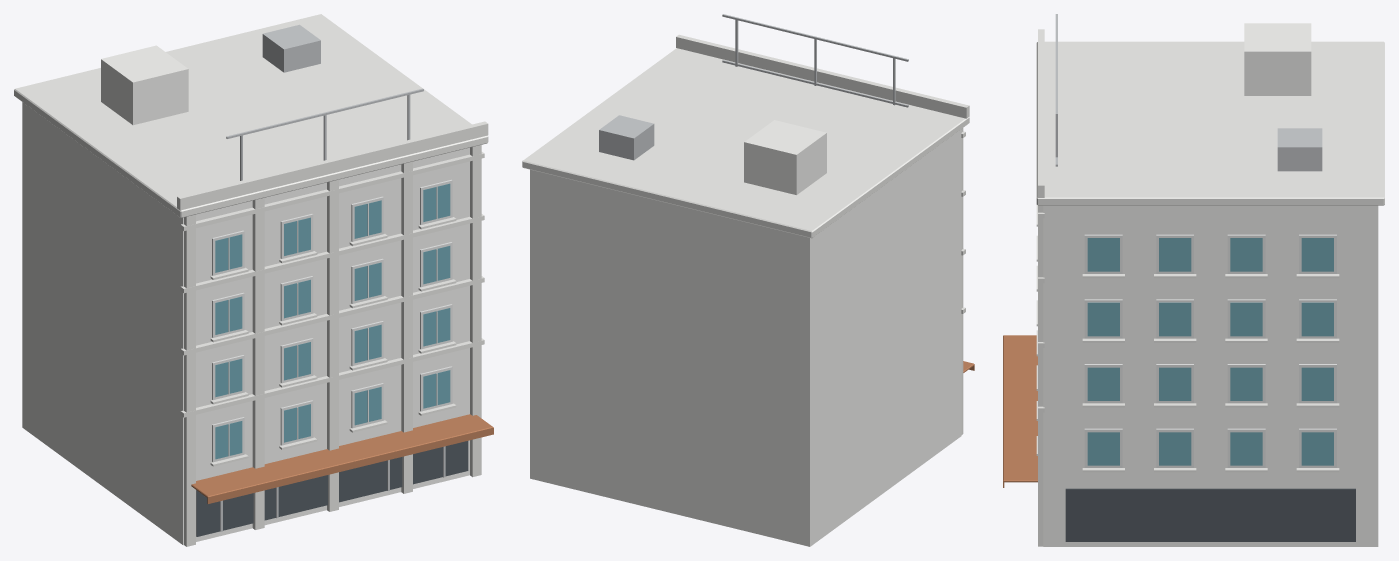
The model's file is mart.glb.
3 renders of one model, left to right at view 1: azimuth 30°, elevation 25°; view 2: azimuth 150°, elevation 25°; view 3: azimuth 270°, elevation 25°, orthographic. The views are drawn at different scales.
Parts seen in each view (by area): view 1: Cube, Cube.001, Cube.013, Cube.012, Cube.130, Cube.124, Cube.125; view 2: Cube, Cube.001, Cube.125; view 3: Cube, Cube.001, Cube.013, Cube.124, Cube.012, Cube.130, Cube.125.
Boxes of the visible parts, box(x1,y1,x2,y2) form: Cube: box(22, 45, 469, 545); Cube.001: box(14, 14, 488, 546); Cube.013: box(215, 183, 450, 459); Cube.012: box(212, 179, 452, 462); Cube.130: box(191, 414, 493, 503); Cube.124: box(196, 441, 468, 536); Cube.125: box(220, 24, 445, 531); Cube: box(530, 120, 961, 546); Cube.001: box(522, 34, 969, 434); Cube.125: box(599, 14, 908, 160); Cube: box(1043, 23, 1378, 546); Cube.001: box(1036, 29, 1384, 546); Cube.013: box(1087, 238, 1333, 465); Cube.124: box(1065, 488, 1355, 541); Cube.012: box(1084, 234, 1336, 467); Cube.130: box(1003, 335, 1037, 487); Cube.125: box(1055, 14, 1322, 171).
Bounding box in the file's own units: 16.61 × 20.15 × 17.11.
